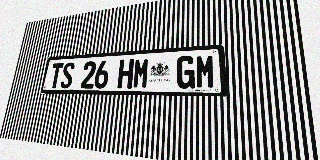2: (80, 61, 97, 88)
6: (93, 60, 110, 88)
G: (176, 55, 195, 89)
H: (117, 59, 134, 88)
M: (195, 54, 215, 89), (132, 58, 150, 88)
S: (60, 62, 75, 88)
T: (48, 63, 64, 88)
